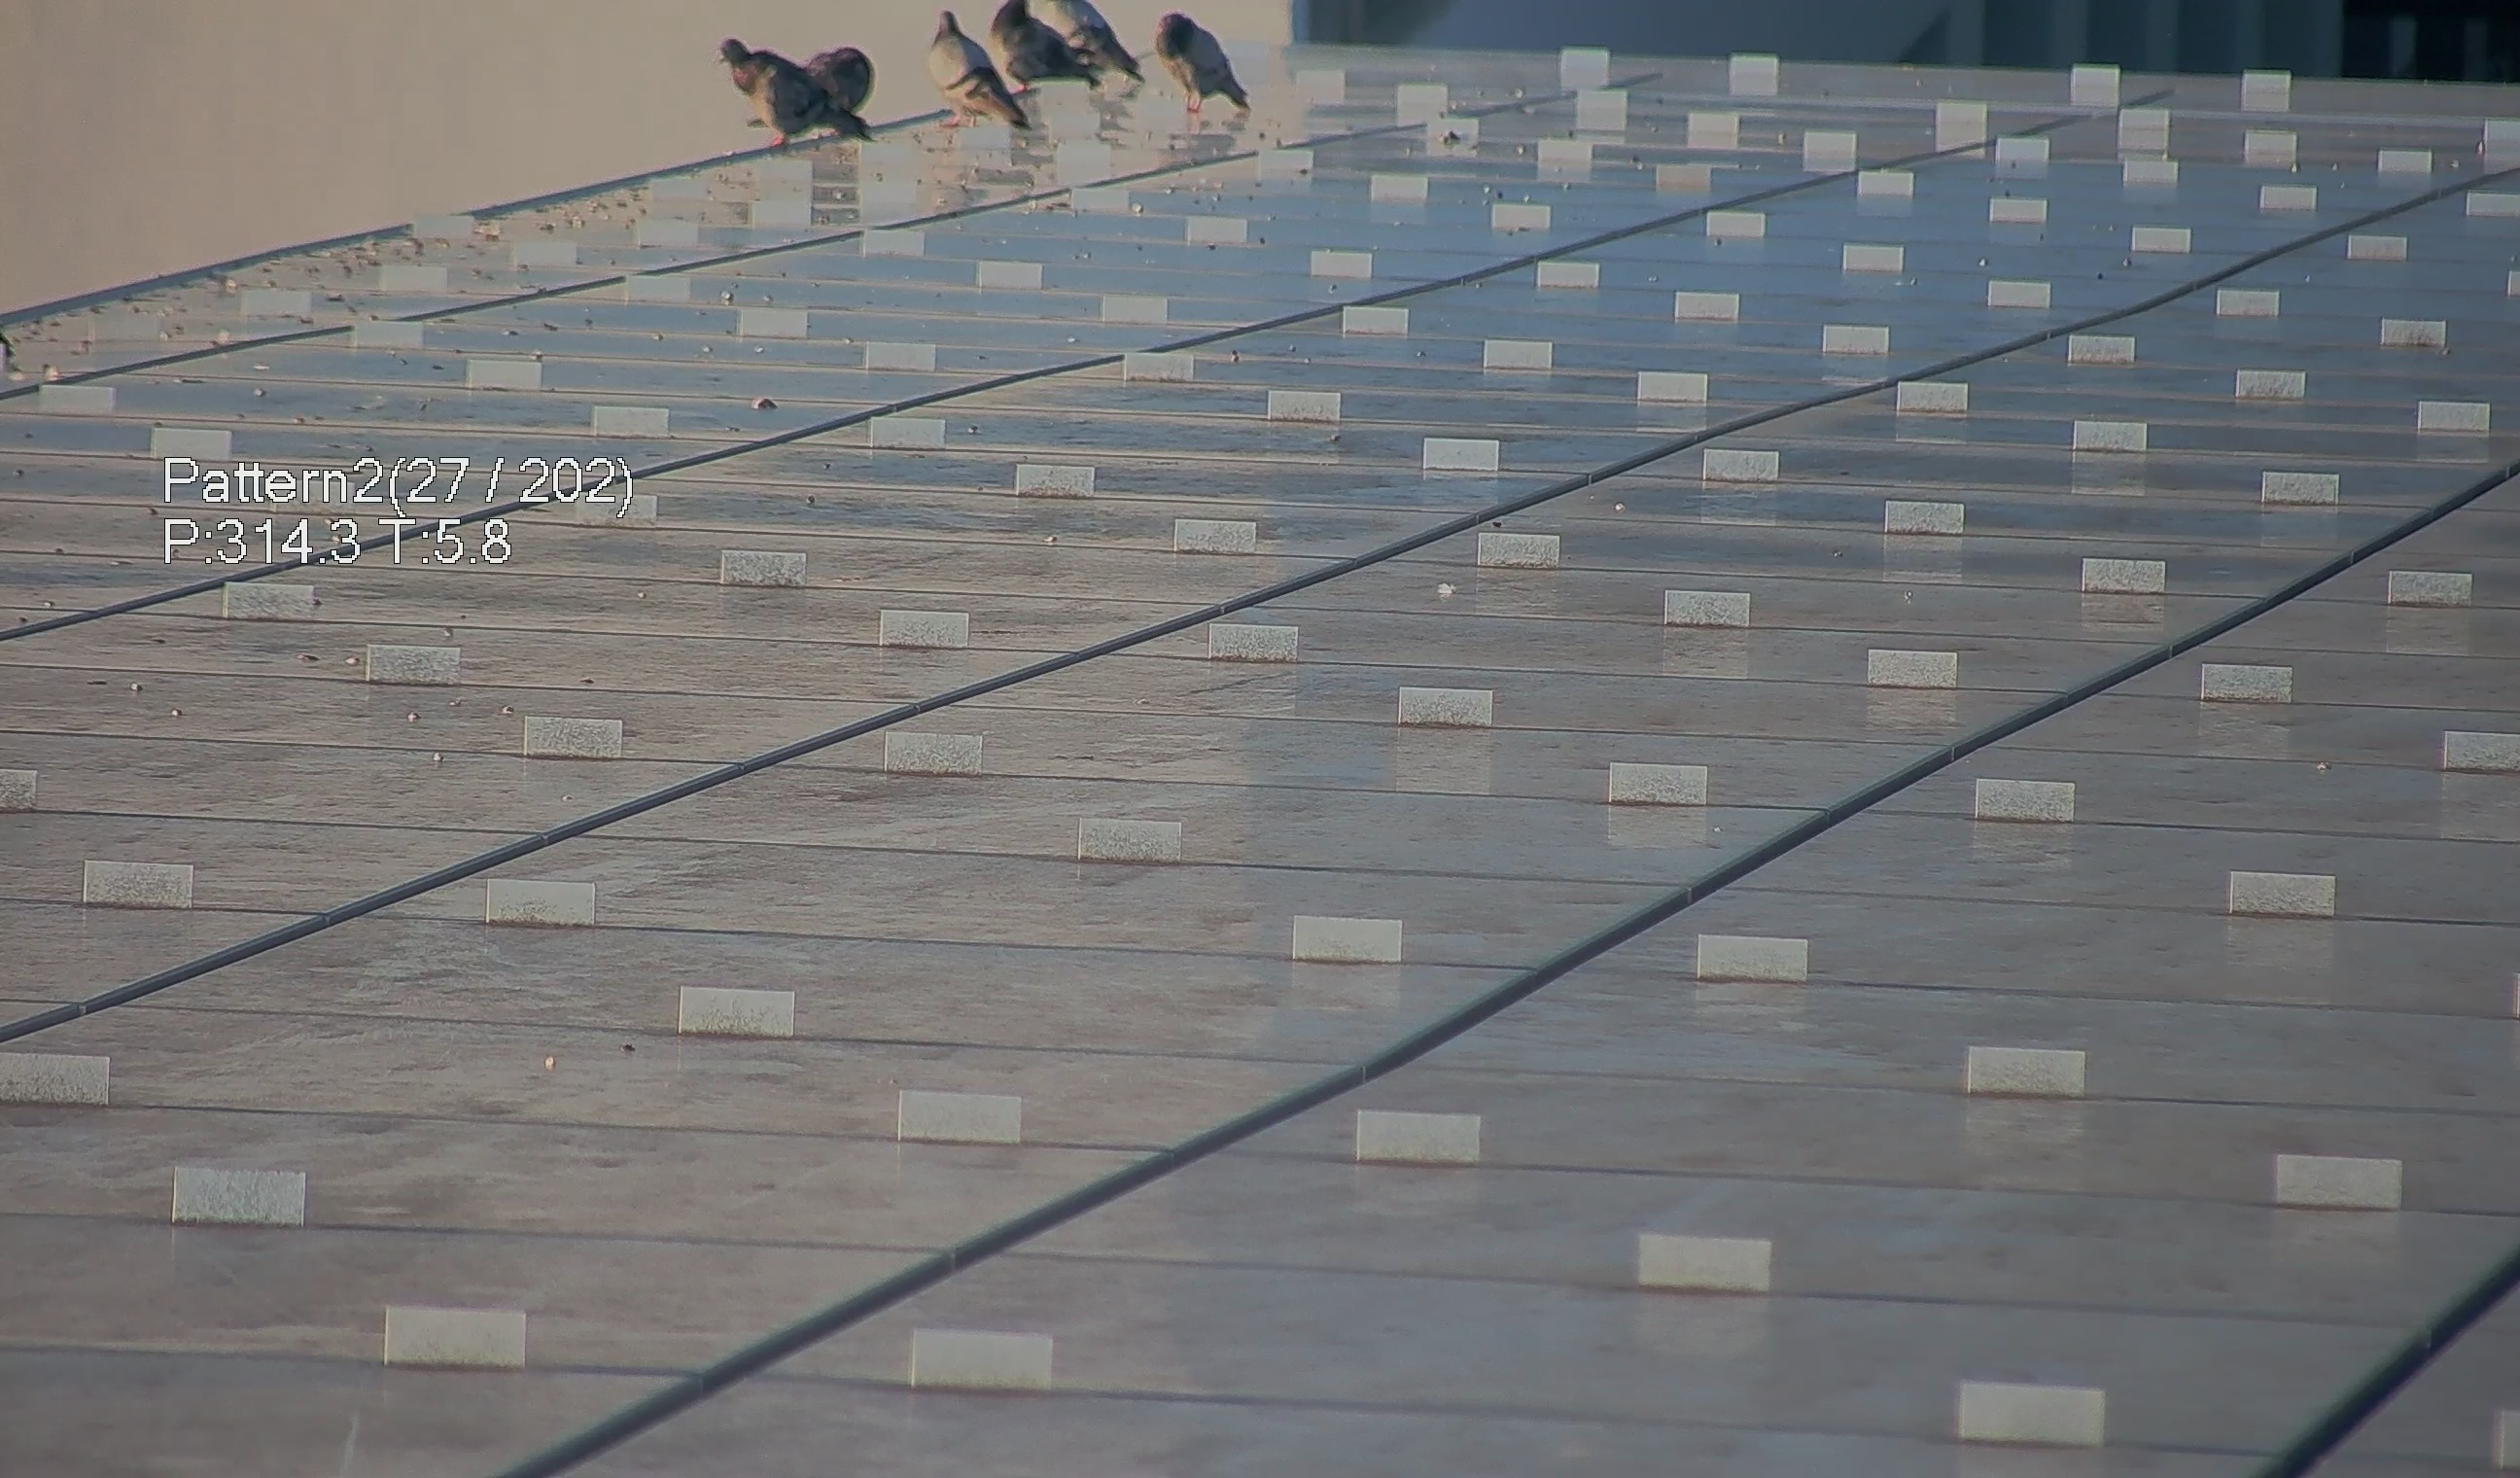Pigeon: (705, 16, 881, 150), (907, 2, 1036, 158), (985, 2, 1143, 93), (1147, 11, 1252, 118)
